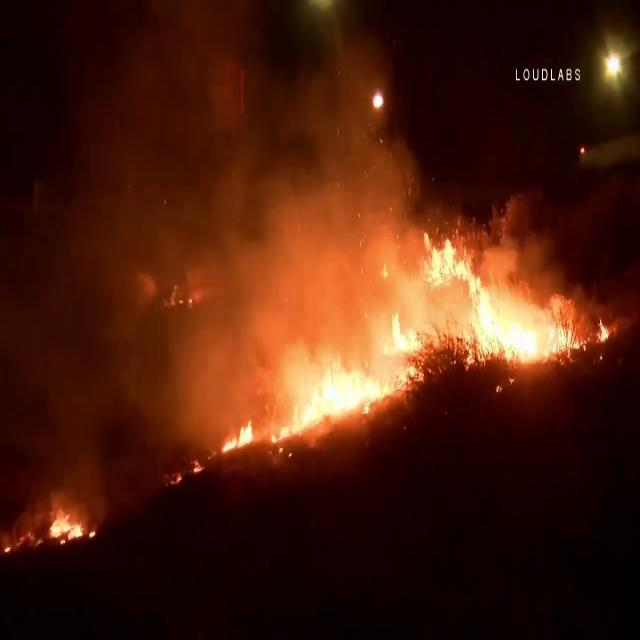Fire: (248, 284, 422, 441), (396, 230, 578, 380), (41, 505, 95, 551)
Smoke: (2, 1, 404, 419)
